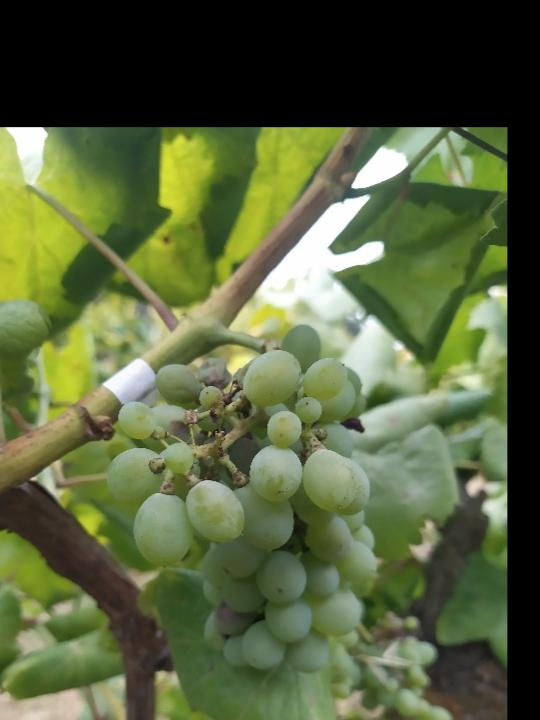grape: (103, 315, 398, 675)
